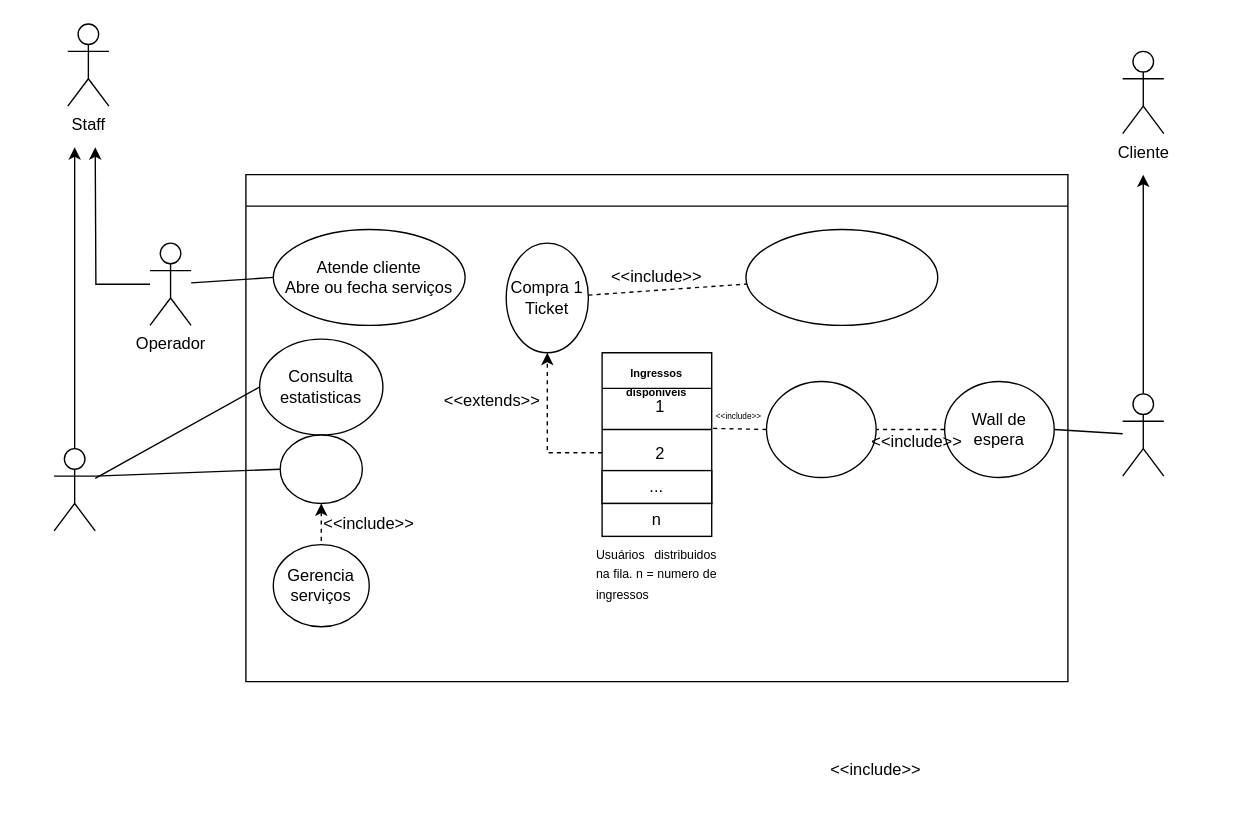
Image size: 1240x815. Some labels were removed from this diagram. The box of each missing label's shape, as (x1, y1, x2, y2) in pixels:
Administrador do Sistema: (53, 447, 95, 531)
Gerencia fila: (279, 434, 362, 503)
rate limit: (765, 380, 876, 477)
sai do sistema: (745, 228, 938, 325)
Sistema de Fila Virtual: (245, 173, 1068, 682)
Usuário autenticado: (1121, 393, 1164, 476)
